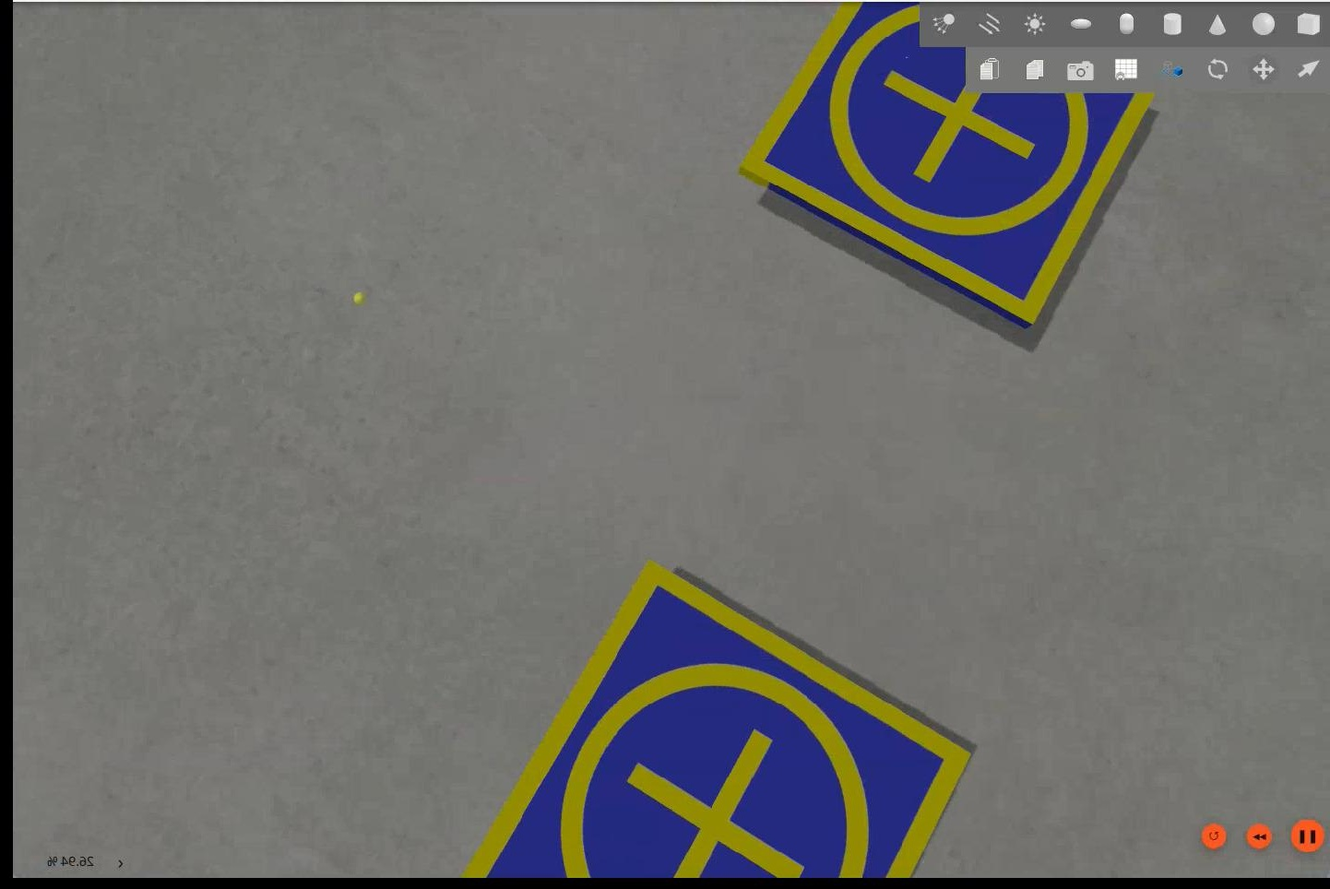small_base: (464, 556, 971, 879), (732, 1, 1160, 330)
